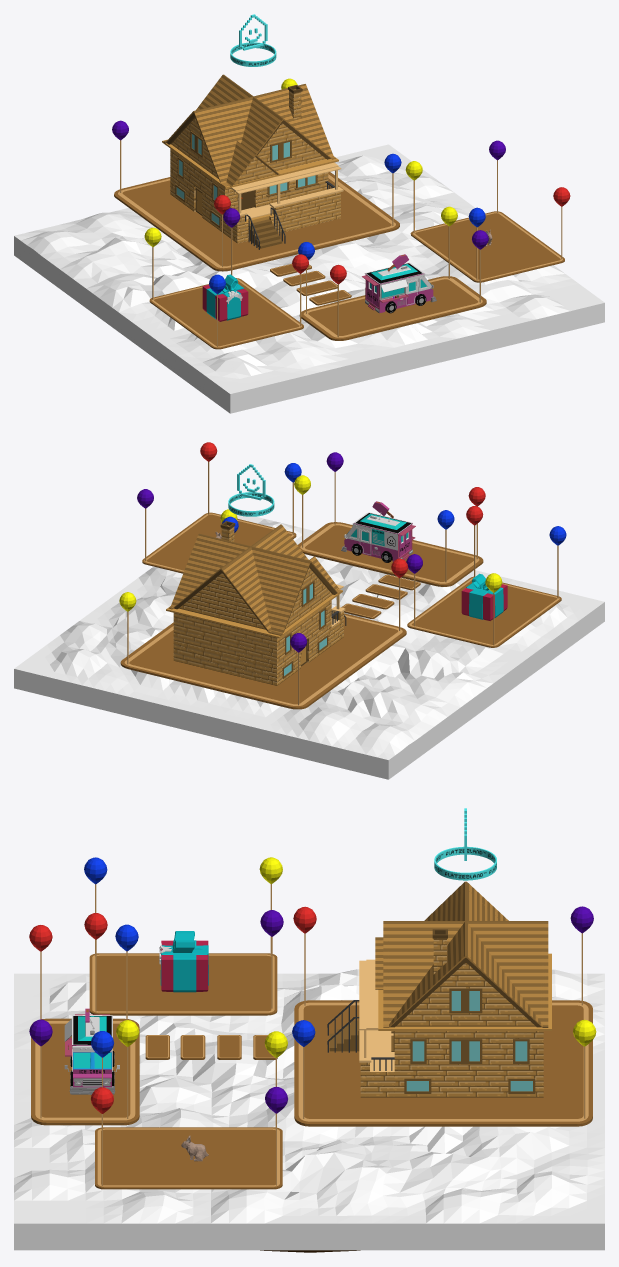
The picture shows the model from 3 angles, top to bottom: view 1: azimuth 30°, elevation 25°; view 2: azimuth 150°, elevation 25°; view 3: azimuth 270°, elevation 25°; orthographic projection. The views are drawn at different scales.
Parts seen in each view (by area): view 1: Cube.013, Cube.508, VEHICLES_ICE_CREAM_TRUCK, OBJRANDOM_GIANT_PRESENT, TYPE_PREMIUM; view 2: Cube.013, Cube.508, VEHICLES_ICE_CREAM_TRUCK, OBJRANDOM_GIANT_PRESENT, TYPE_PREMIUM; view 3: Cube.013, Cube.508, VEHICLES_ICE_CREAM_TRUCK, OBJRANDOM_GIANT_PRESENT, TYPE_PREMIUM.
Part boxes in pixels (bbox=[...]): Cube.013: bbox=[14, 78, 604, 413]; Cube.508: bbox=[162, 74, 343, 249]; VEHICLES_ICE_CREAM_TRUCK: bbox=[362, 254, 436, 313]; OBJRANDOM_GIANT_PRESENT: bbox=[202, 274, 248, 321]; TYPE_PREMIUM: bbox=[230, 14, 276, 66]; Cube.013: bbox=[14, 442, 604, 779]; Cube.508: bbox=[166, 521, 346, 685]; VEHICLES_ICE_CREAM_TRUCK: bbox=[341, 501, 415, 562]; OBJRANDOM_GIANT_PRESENT: bbox=[461, 573, 507, 620]; TYPE_PREMIUM: bbox=[228, 464, 274, 516]; Cube.013: bbox=[14, 857, 604, 1250]; Cube.508: bbox=[327, 881, 551, 1097]; VEHICLES_ICE_CREAM_TRUCK: bbox=[64, 1008, 119, 1094]; OBJRANDOM_GIANT_PRESENT: bbox=[159, 931, 208, 992]; TYPE_PREMIUM: bbox=[434, 808, 496, 880].
Bounding box in the file's own units: 4000 × 2509 × 4000.
Materials: 47 (3 with a texture image).
